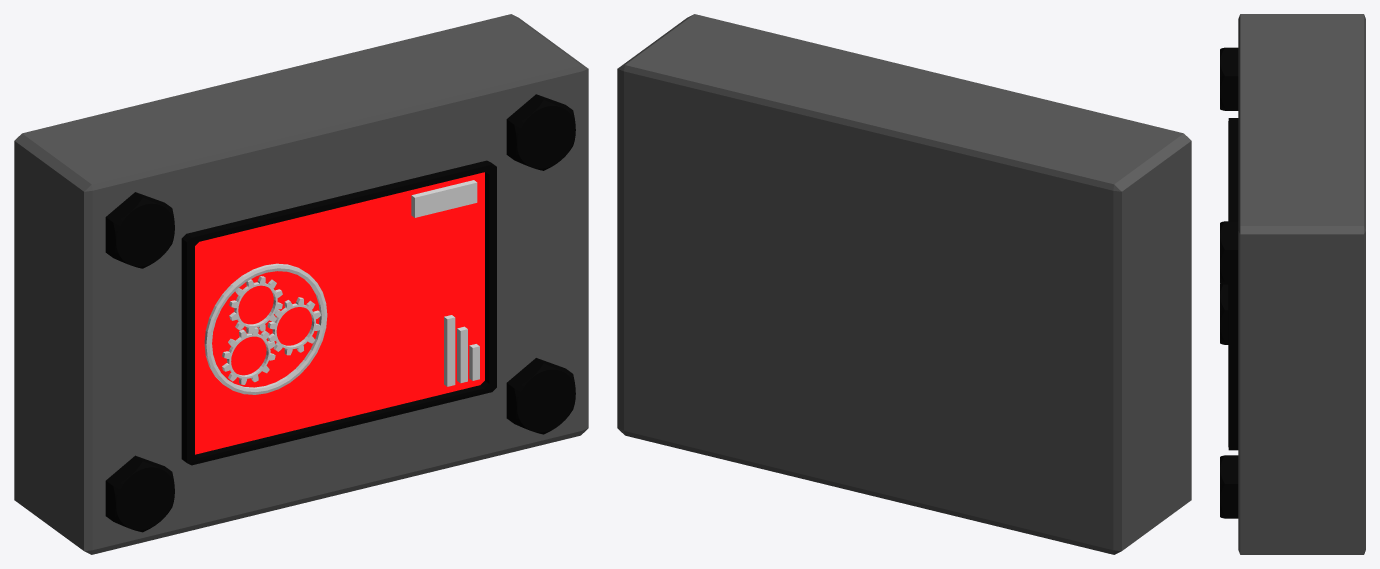
File: VaultControls.fbx
3 views of the same model, side by side, from view 1: azimuth 30°, elevation 25°; view 2: azimuth 150°, elevation 25°; view 3: azimuth 270°, elevation 25° (orthographic). The views are drawn at different scales.
Visible parts, largest first — view 1: Cube.058, screenRed.001, Bolt.006, Cube.057, Cylinder.028, Cube.055, Gear.006, Gear.005, Gear.007, Cube.054; view 2: Cube.058; view 3: Cube.058, Bolt.006, Cube.057.
Part boxes in pixels (bbox=[...]): Cube.058: bbox=[14, 14, 588, 554]; screenRed.001: bbox=[195, 172, 484, 454]; Bolt.006: bbox=[105, 94, 575, 532]; Cube.057: bbox=[181, 160, 496, 465]; Cylinder.028: bbox=[204, 263, 327, 394]; Cube.055: bbox=[411, 180, 477, 217]; Gear.006: bbox=[229, 276, 282, 333]; Gear.005: bbox=[267, 297, 320, 355]; Gear.007: bbox=[222, 327, 275, 384]; Cube.054: bbox=[444, 315, 455, 386]; Cube.058: bbox=[617, 14, 1191, 554]; Cube.058: bbox=[1238, 14, 1365, 554]; Bolt.006: bbox=[1220, 47, 1238, 518]; Cube.057: bbox=[1228, 118, 1238, 450].
Bounding box in the file's own units: 36.78 × 25.82 × 10.38.
